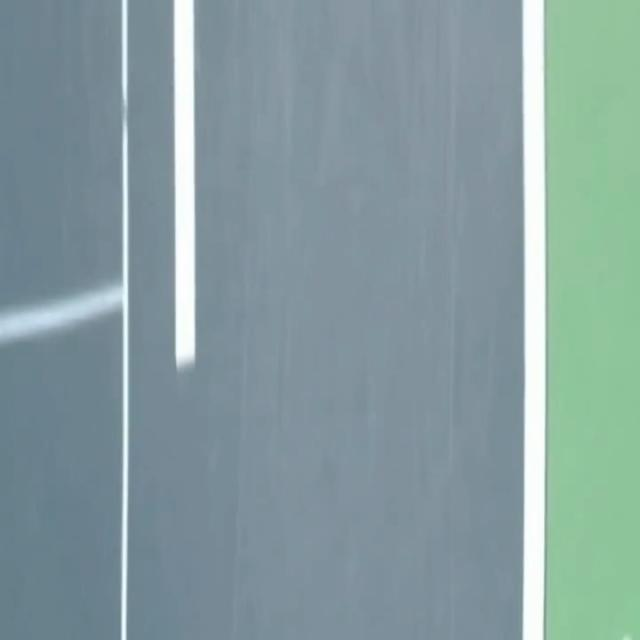center: (173, 0, 195, 368)
right: (523, 0, 546, 639)
